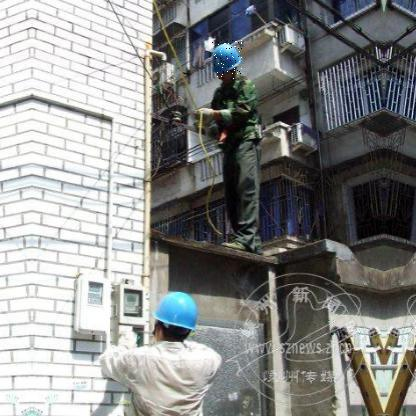safetyhelmet: (150, 293, 198, 332), (212, 40, 244, 80)
